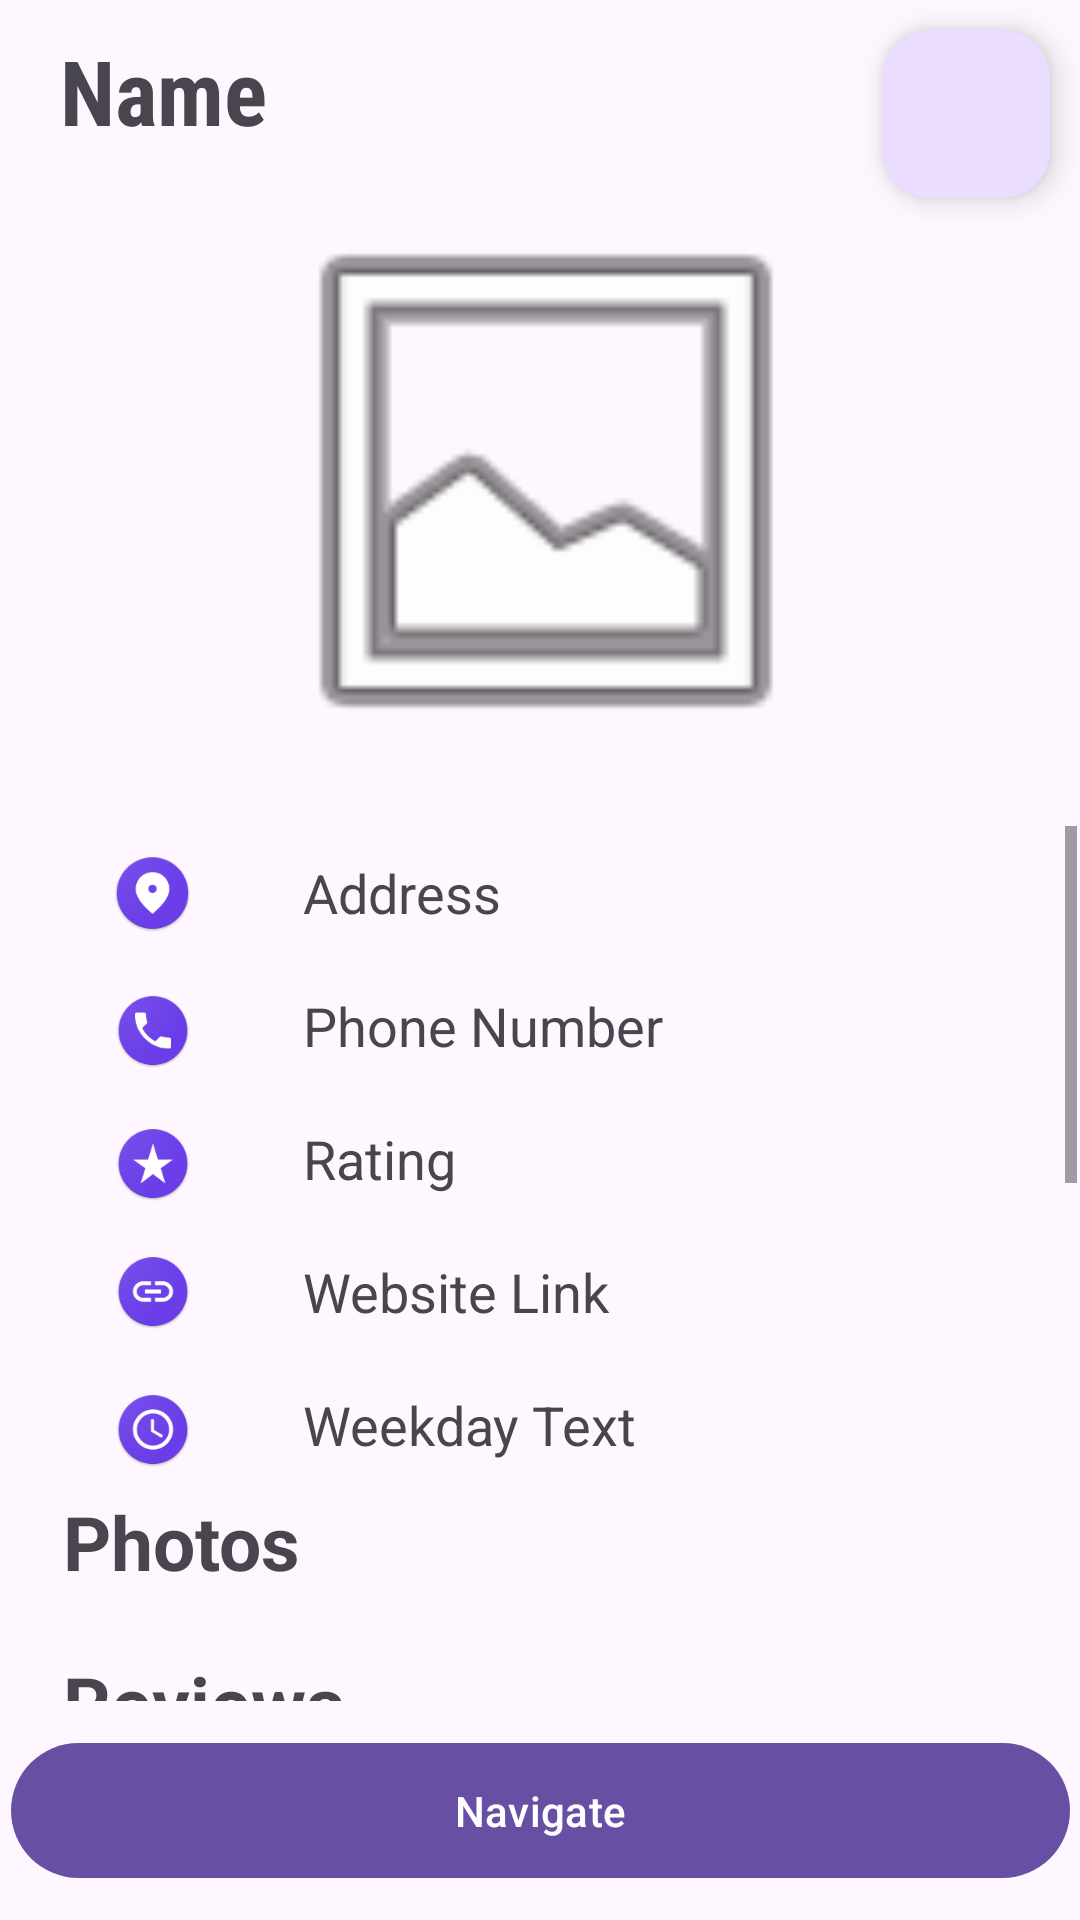

Locate icon controls on the screen. Image size 1080px×1920px, boxes as box(x1, y1, x2, y2).
map: box(116, 857, 189, 930)
openinghour: box(118, 1395, 188, 1466)
